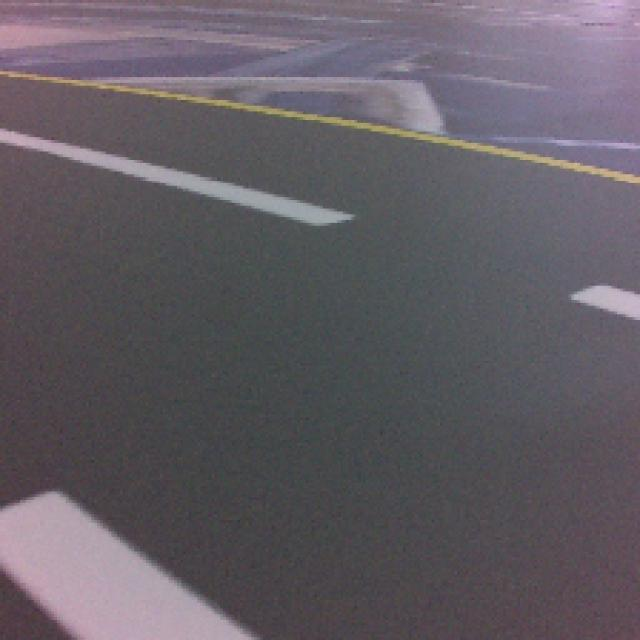Pedestrian crosswalk: (0, 489, 262, 640)
